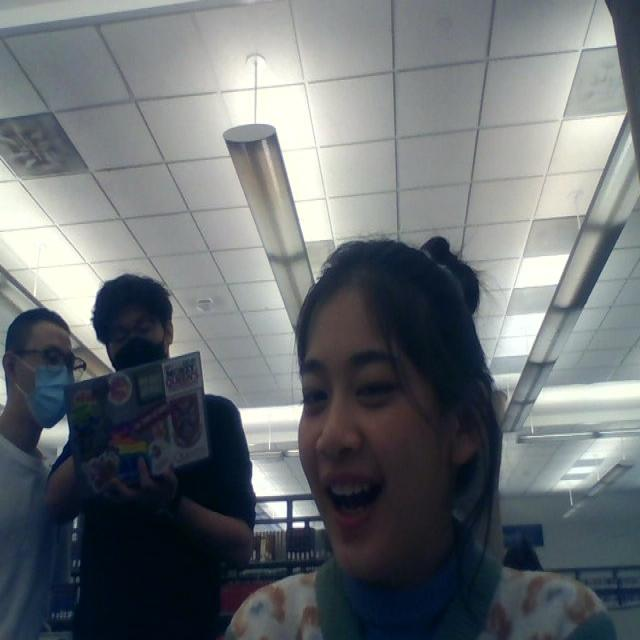Yawn: (298, 353, 422, 544)
